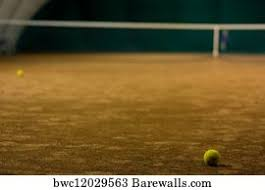tennis_ball: (203, 149, 221, 166), (15, 68, 24, 78)
